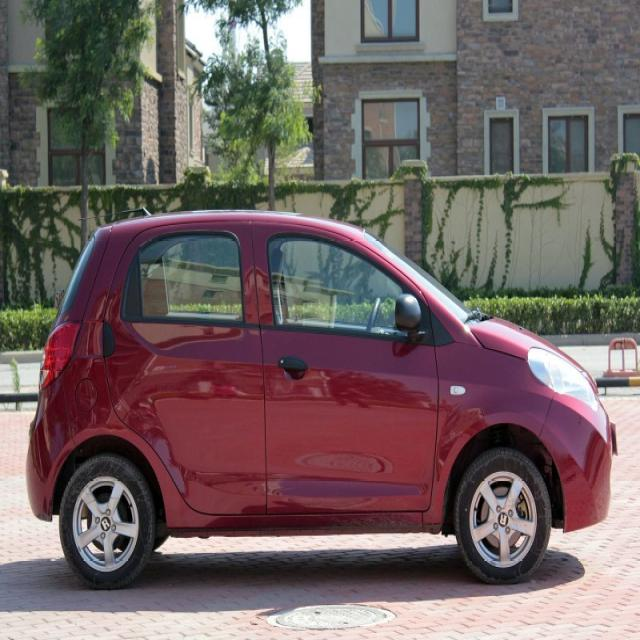back_right_side_light: (37, 316, 82, 396)
door: (111, 235, 272, 516)
front_right_side_door: (248, 214, 441, 518)
front_right_side_light: (528, 346, 598, 412)
front_right_side_mirror: (392, 288, 423, 338)
wheel: (456, 448, 550, 584), (58, 454, 153, 586)
